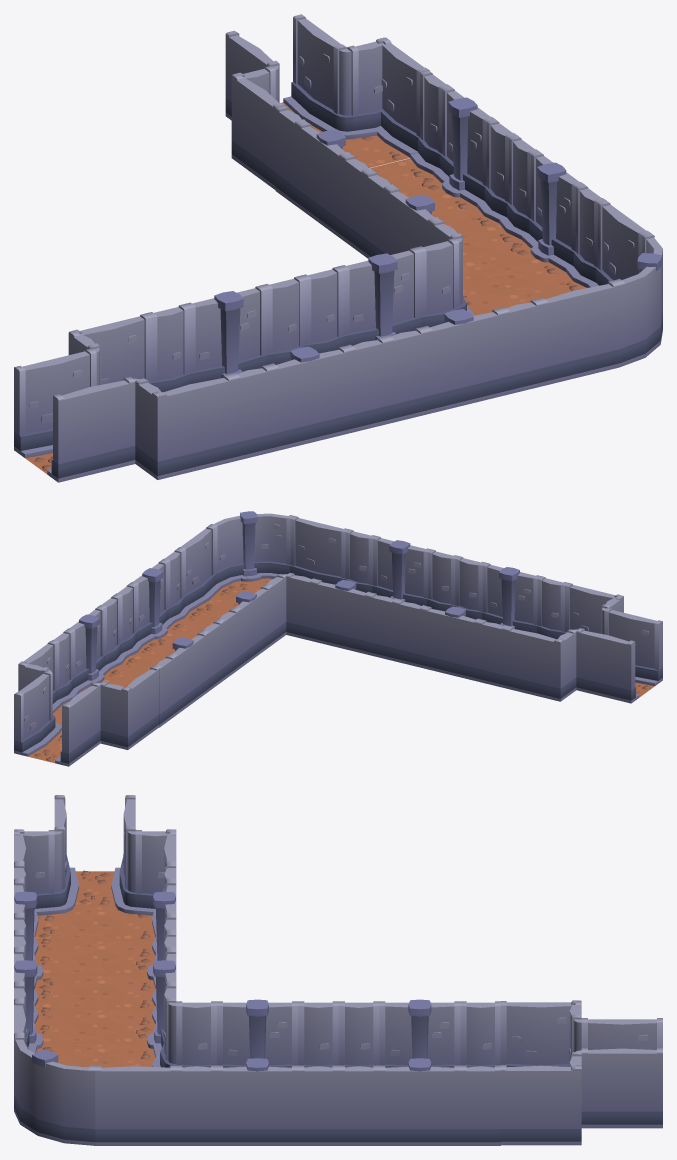
Rendered from 2 section hallway each side of 90.glb.
3 renders of one model, top to bottom at view 1: azimuth 30°, elevation 25°; view 2: azimuth 150°, elevation 25°; view 3: azimuth 270°, elevation 25°, orthographic. The views are drawn at different scales.
Parts seen in each view (by area): view 1: corridor-wide.003, corridor-wide, corridor-transition, corridor-wide.001, corridor-wide.002, corridor-transition.002, corridor-wide-corner; view 2: corridor-wide, corridor-wide.003, corridor-transition, corridor-wide-corner, corridor-transition.002, corridor-wide.001, corridor-wide.002; view 3: corridor-wide.002, corridor-wide.001, corridor-transition.002, corridor-wide-corner, corridor-transition, corridor-wide.003, corridor-wide.
Part boxes in pixels (x1,y1,x2,y2): corridor-wide.003: [146, 276, 388, 461]; corridor-wide: [300, 238, 542, 423]; corridor-transition: [14, 313, 234, 482]; corridor-wide.001: [364, 135, 605, 315]; corridor-wide.002: [275, 70, 516, 255]; corridor-transition.002: [225, 14, 429, 189]; corridor-wide-corner: [456, 200, 662, 386]; corridor-wide: [286, 529, 458, 661]; corridor-wide.003: [396, 556, 568, 688]; corridor-transition: [505, 583, 662, 703]; corridor-wide-corner: [177, 511, 348, 618]; corridor-transition.002: [14, 641, 159, 766]; corridor-wide.001: [114, 548, 286, 680]; corridor-wide.002: [51, 595, 222, 727]; corridor-wide.002: [338, 999, 500, 1145]; corridor-wide.001: [176, 999, 338, 1145]; corridor-transition.002: [500, 1000, 662, 1145]; corridor-wide-corner: [14, 1001, 176, 1145]; corridor-transition: [14, 795, 176, 939]; corridor-wide.003: [14, 863, 176, 1008]; corridor-wide: [14, 932, 176, 1067].
Size of the model in its own units: 32 by 4.23 by 31.97.
Materials: 3 (3 with a texture image).
